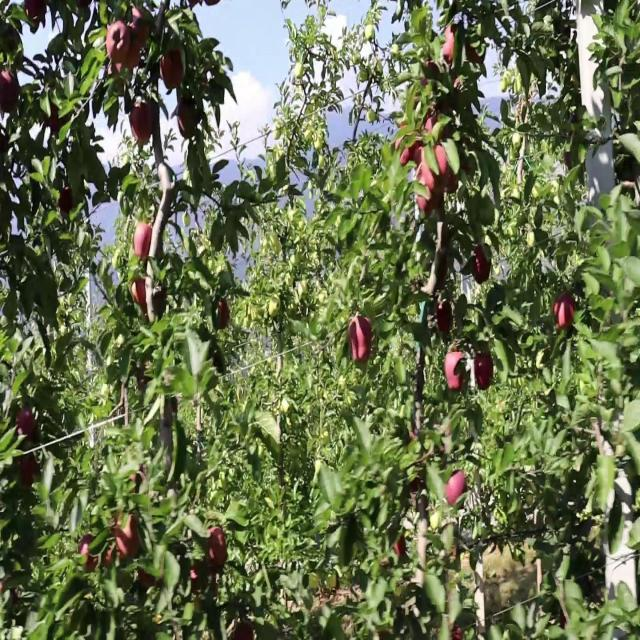apple: (124, 7, 151, 71), (132, 277, 167, 318), (116, 511, 142, 562), (132, 99, 159, 148), (432, 149, 459, 194), (132, 277, 160, 318), (160, 49, 186, 92), (348, 319, 373, 363), (176, 99, 202, 140), (128, 7, 151, 52), (0, 71, 21, 116), (208, 526, 228, 572), (108, 21, 129, 64), (440, 149, 460, 194), (444, 469, 468, 505), (16, 405, 38, 444), (436, 149, 459, 185), (556, 291, 576, 332), (444, 355, 466, 391), (132, 277, 150, 318), (136, 220, 153, 263), (476, 355, 496, 391), (192, 561, 206, 610), (20, 455, 40, 489), (420, 156, 438, 192), (80, 540, 99, 574), (44, 106, 66, 135), (192, 561, 204, 610), (476, 248, 492, 284), (60, 184, 77, 217), (124, 42, 142, 73), (216, 298, 232, 332), (444, 28, 458, 66), (24, 0, 47, 23), (140, 568, 164, 590), (420, 63, 440, 89), (396, 142, 415, 169), (444, 163, 460, 194), (416, 191, 435, 217), (436, 305, 453, 334), (396, 135, 410, 169), (136, 362, 151, 393), (132, 462, 148, 489), (192, 561, 202, 597), (424, 113, 439, 135), (232, 625, 255, 639), (448, 618, 463, 639), (412, 142, 424, 167), (468, 42, 481, 64), (104, 547, 114, 569), (412, 476, 422, 496), (396, 540, 407, 558), (4, 135, 9, 151)
